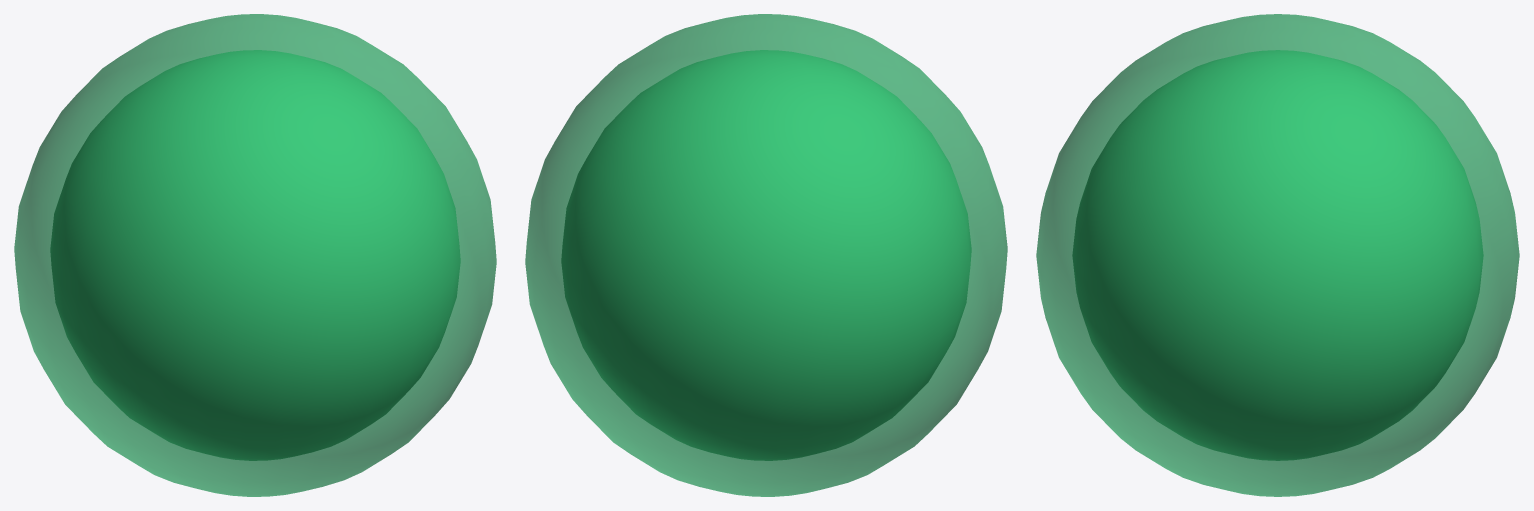
Rendered from GreenSlimeBallObject.fbx.
The picture shows the model from 3 angles, left to right: view 1: azimuth 30°, elevation 25°; view 2: azimuth 150°, elevation 25°; view 3: azimuth 270°, elevation 25°; orthographic projection.
Visible parts, largest first — view 1: Sphere, Sphere.001; view 2: Sphere, Sphere.001; view 3: Sphere, Sphere.001.
Part boxes in pixels (<box>): Sphere: <box>14,14,496,496</box>; Sphere.001: <box>50,50,460,460</box>; Sphere: <box>525,14,1007,496</box>; Sphere.001: <box>561,50,971,460</box>; Sphere: <box>1036,14,1519,496</box>; Sphere.001: <box>1072,50,1483,460</box>.
Bounding box in the file's own units: 200 × 200 × 200.
